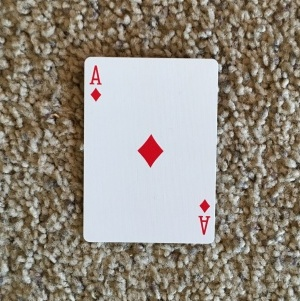card: (81, 55, 218, 246)
